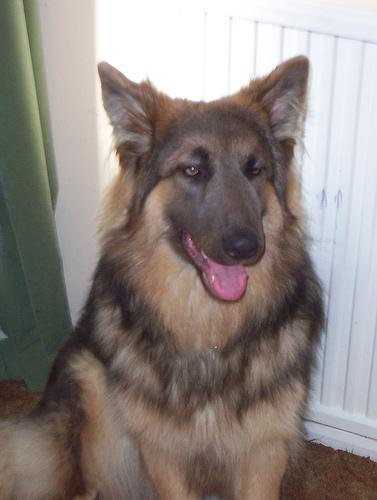German_shepherd: (0, 52, 329, 498)
